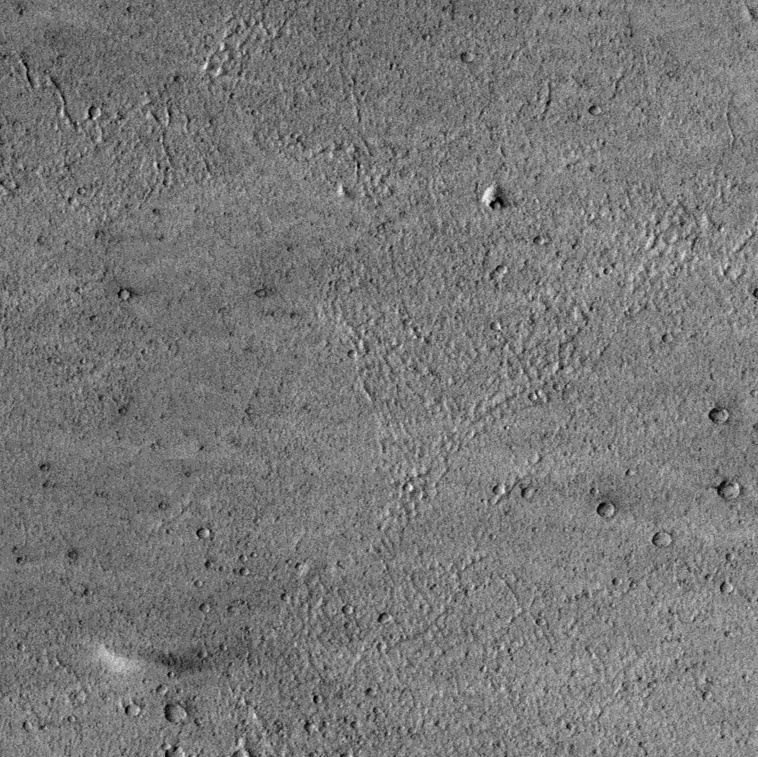dust_devil: (94, 640, 214, 680)
